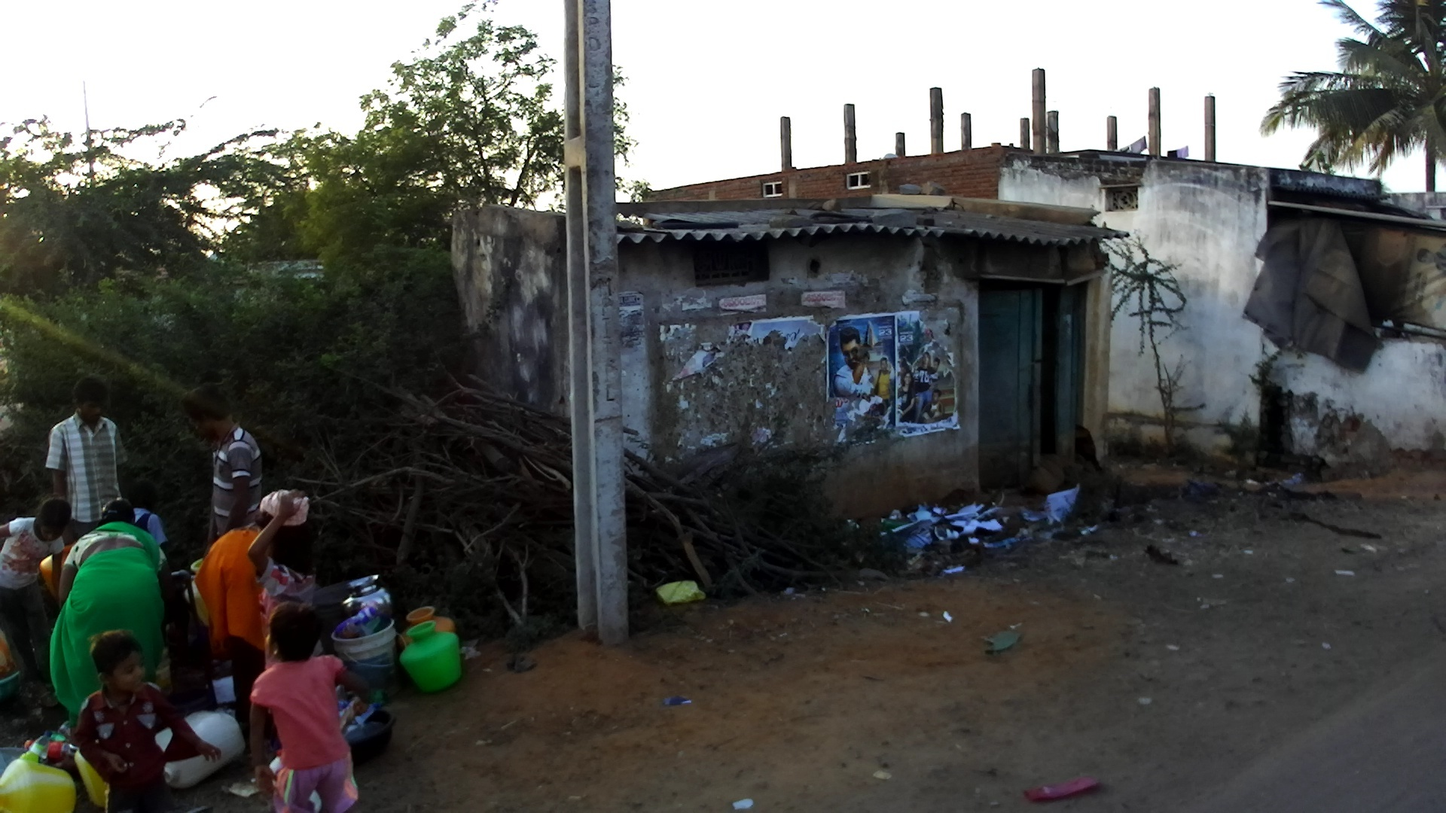person: (47, 499, 166, 744), (66, 632, 221, 813), (246, 600, 376, 813), (249, 488, 327, 761), (194, 528, 270, 766), (48, 374, 135, 544), (177, 385, 261, 558), (1, 498, 74, 681), (124, 480, 166, 550)
